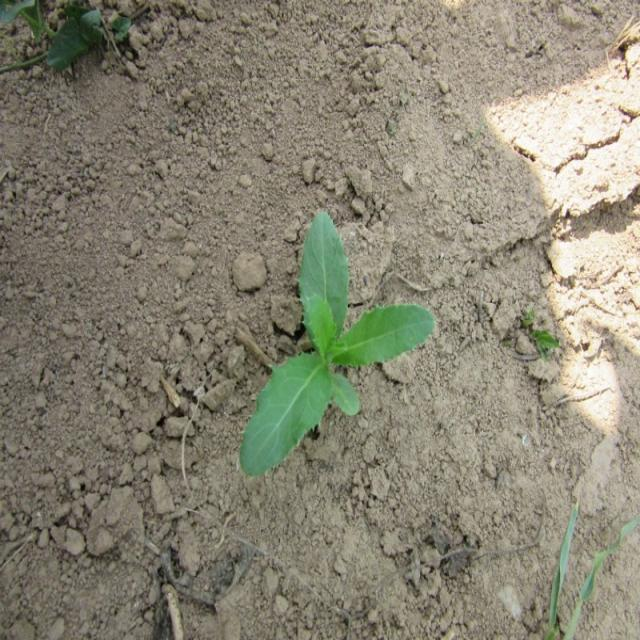cs: (238, 201, 434, 478)
